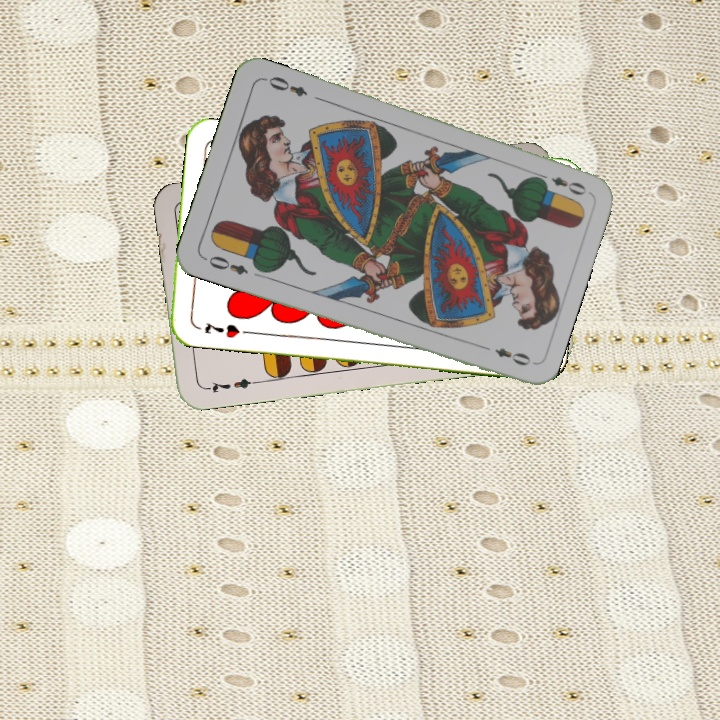E7: (201, 374, 260, 396)
EO: (532, 169, 589, 198), (200, 251, 251, 278)
H7: (200, 318, 242, 341)
